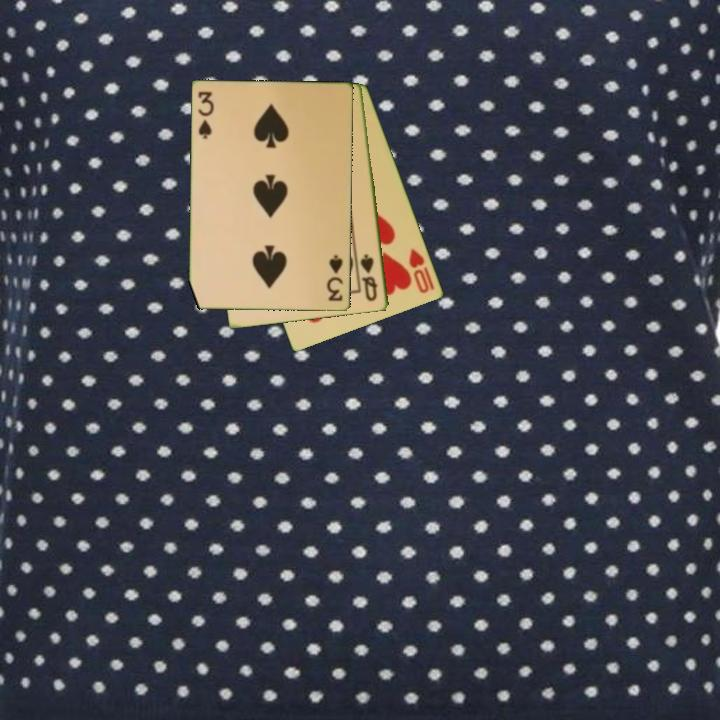10h: (406, 245, 438, 296)
3s: (195, 88, 217, 142), (324, 251, 346, 304)
Qs: (357, 251, 381, 304)
